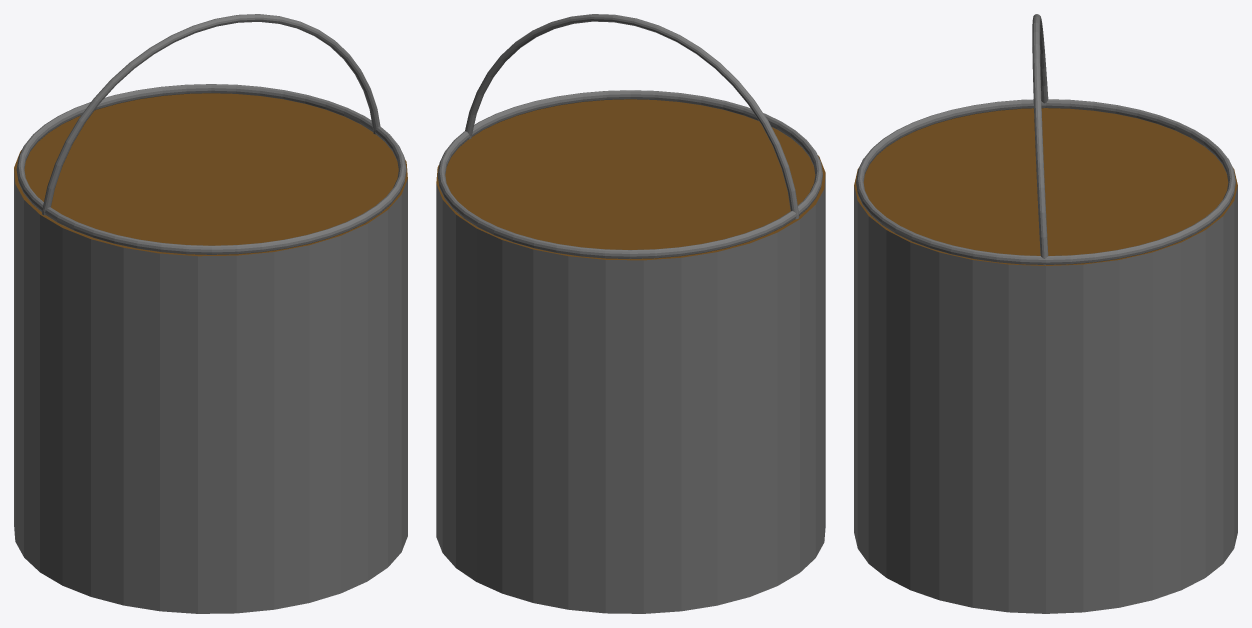
The model's file is bucket.fbx.
3 views of the same model, side by side, from view 1: azimuth 30°, elevation 25°; view 2: azimuth 150°, elevation 25°; view 3: azimuth 270°, elevation 25° (orthographic). The views are drawn at different scales.
Parts seen in each view (by area): view 1: Torus; view 2: Torus; view 3: Torus.
Part boxes in pixels (x1,y1,x2,y2): Torus: [14, 14, 407, 613]; Torus: [436, 14, 825, 613]; Torus: [854, 14, 1237, 613].
Size of the model in its own units: 200 by 288 by 200.
